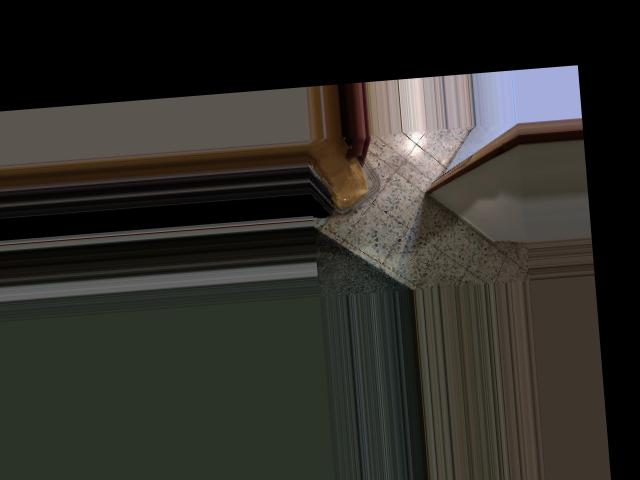cheese: (305, 133, 381, 216)
